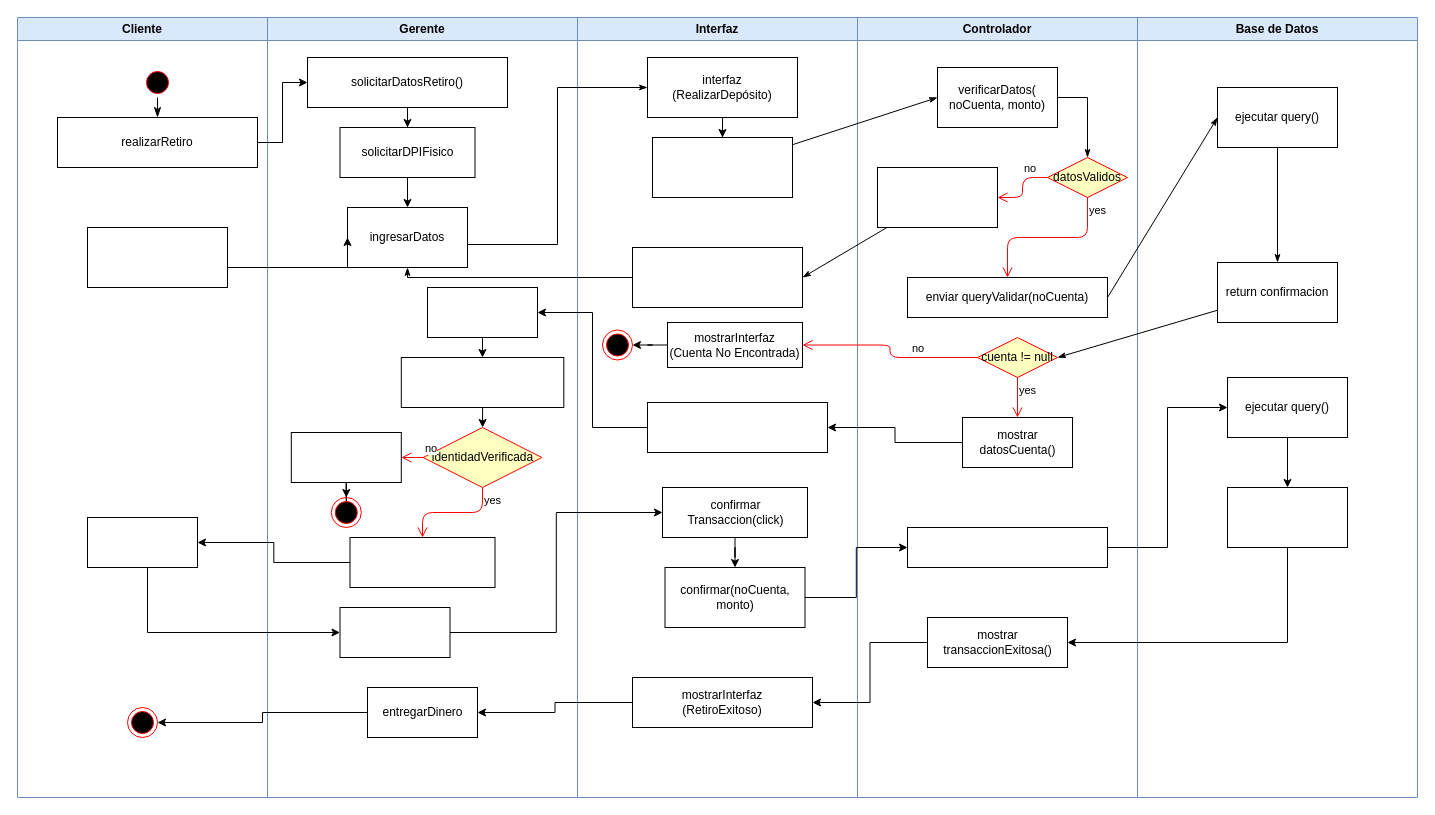
The diagram is 1435 pixels wide and 815 high, and some of its shapes have lost their labels. Each missing label, with the centre of its shape:
"cancelarRetiro" goes at point 345,457.
"confirmacionVisual" goes at point 482,312.
"confirmar Transaccion" goes at point 142,542.
"confirmar Transaccion()" goes at point 394,632.
"consultarConfirmacion" goes at point 422,562.
"enviar queryConfirmar (noCuenta, monto)" goes at point 1007,547.
"enviar(noCuenta, monto)" goes at point 722,167.
"enviarMensaje(error)" goes at point 937,197.
"mostrarInterfaz(error)" goes at point 717,277.
"mostrarInterfaz(Validar DatosCuenta)" goes at point 737,427.
"proporcionarDatos" goes at point 157,257.
"return transaccionExitosa" goes at point 1287,517.
"validacionVisual DPIFisico&DPIEscaneado" goes at point 482,382.
